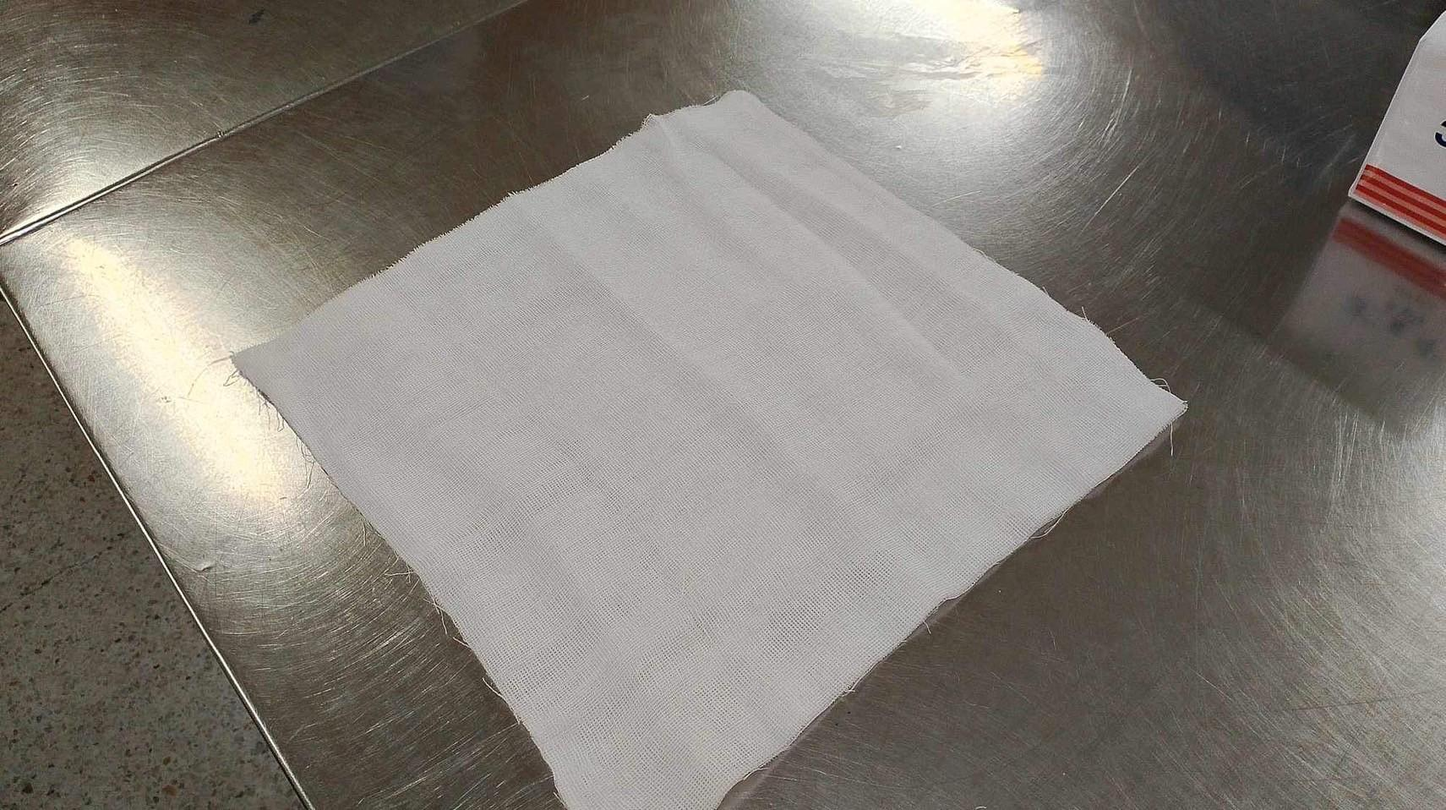Infectious: (226, 86, 1190, 807)
Sharps: (1345, 8, 1445, 246)
